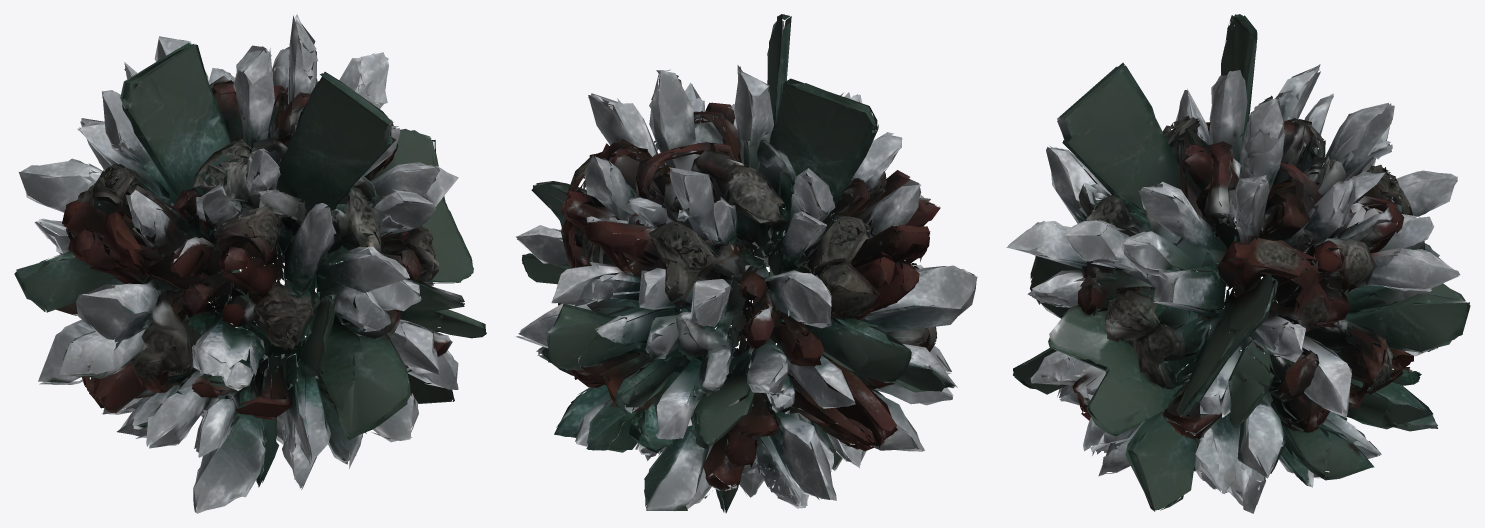
File: scatter_cryo_shards.glb
3 views of the same model, side by side, from view 1: azimuth 30°, elevation 25°; view 2: azimuth 150°, elevation 25°; view 3: azimuth 270°, elevation 25° (orthographic).
Parts seen in each view (by area): view 1: node_0; view 2: node_0; view 3: node_0.
Boxes of the visible parts, bbox=[...] form: node_0: bbox=[14, 14, 486, 513]; node_0: bbox=[515, 14, 977, 513]; node_0: bbox=[1006, 14, 1470, 513].
Bounding box in the file's own units: 1.02 × 1 × 0.986.
Materials: 1 (1 with a texture image).
